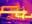Hotspot: (15, 14, 32, 18), (2, 5, 19, 9), (0, 11, 27, 13)
